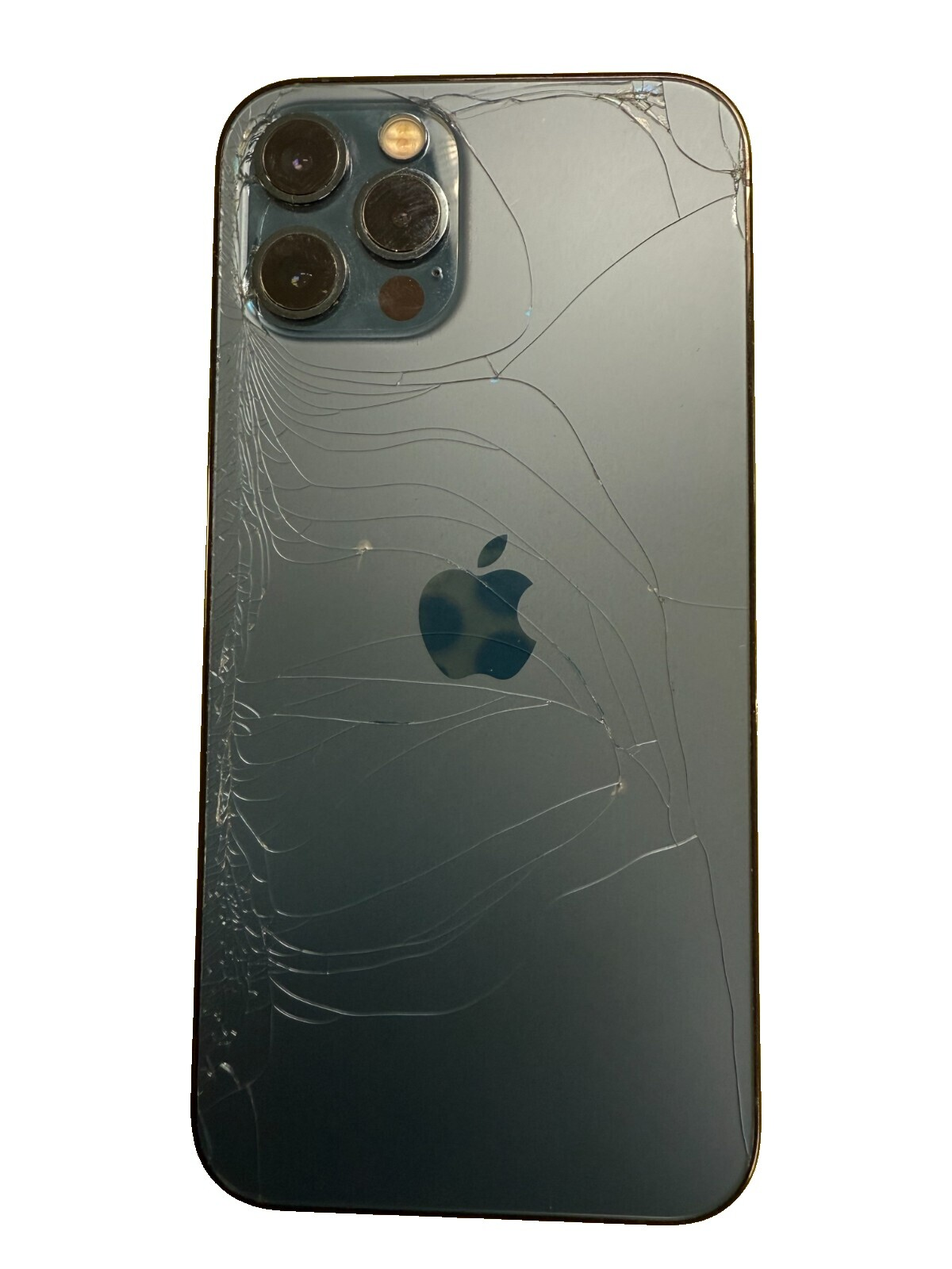crack_phone: (188, 47, 820, 1253)
